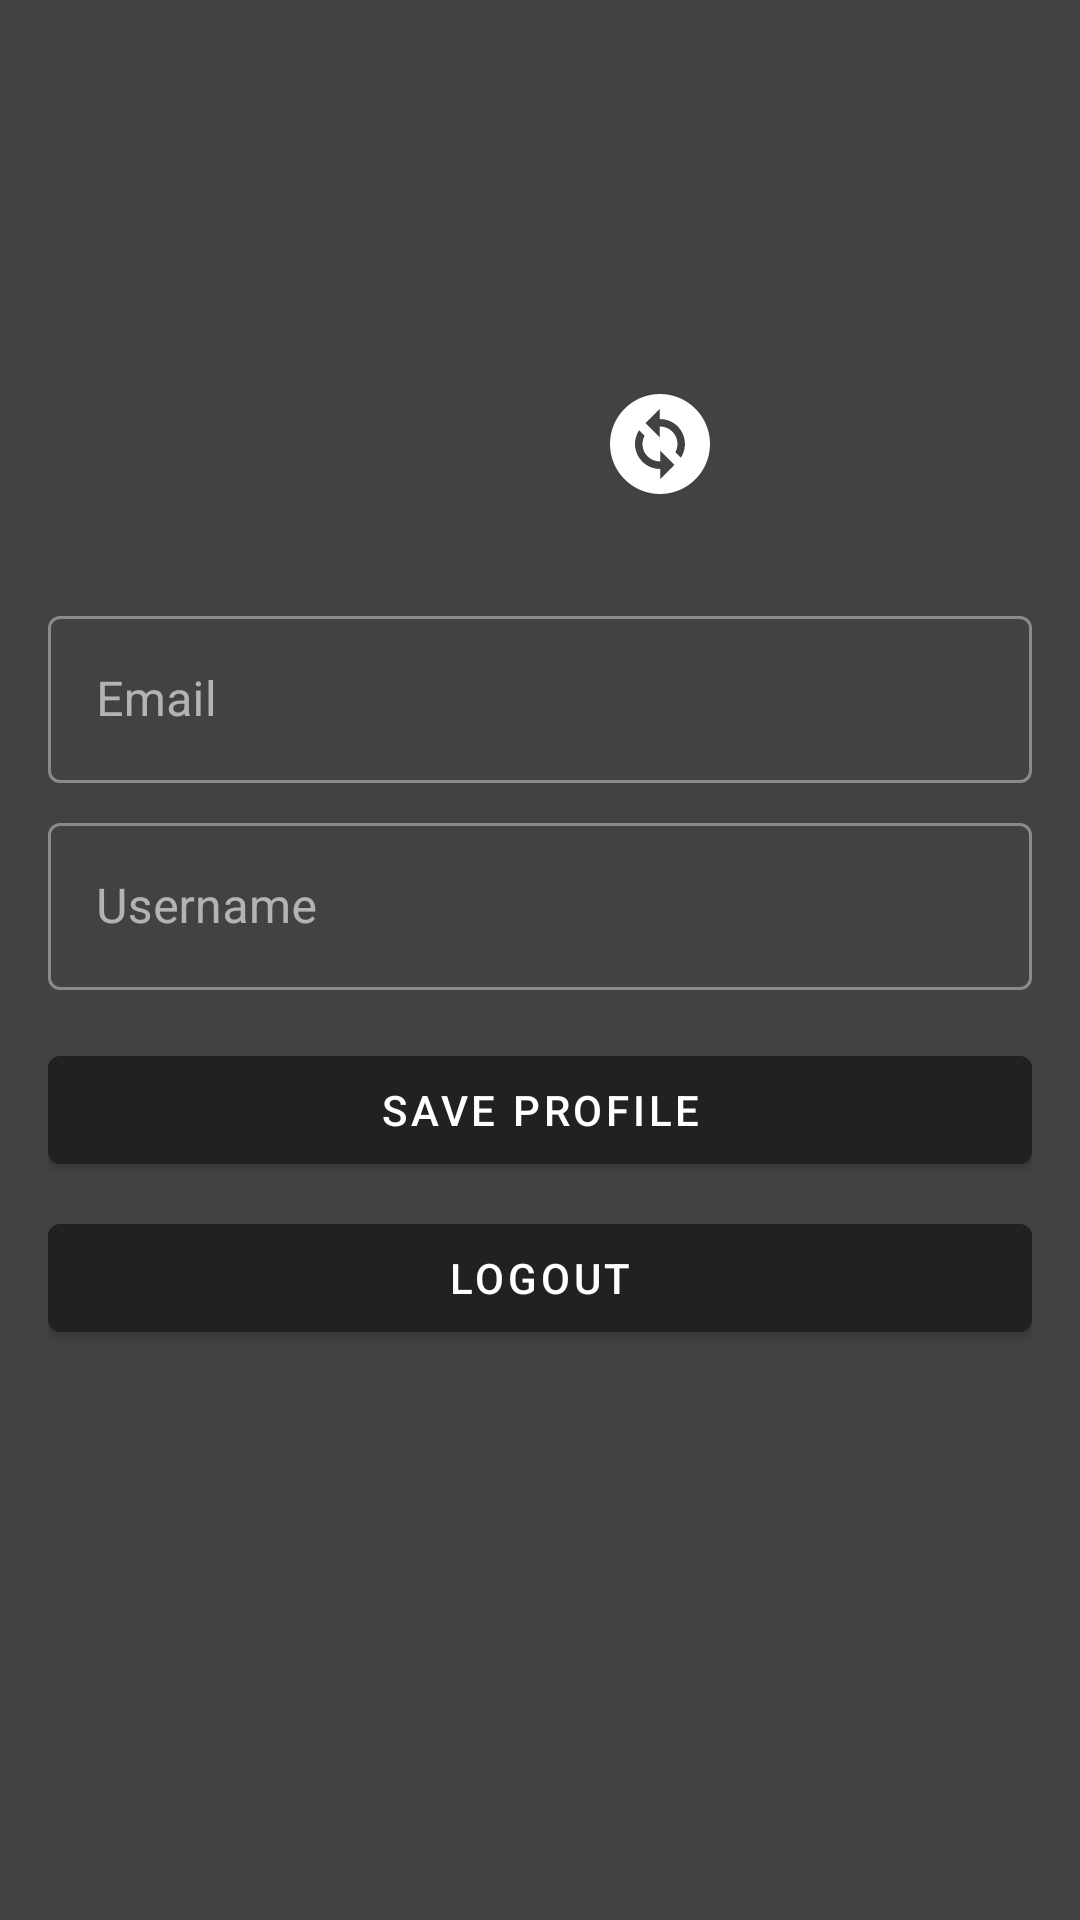

Screen size 1080×1920. Icon name, then its box in pixels as (x1, y1, x2, y2):
change: (610, 394, 710, 494)
